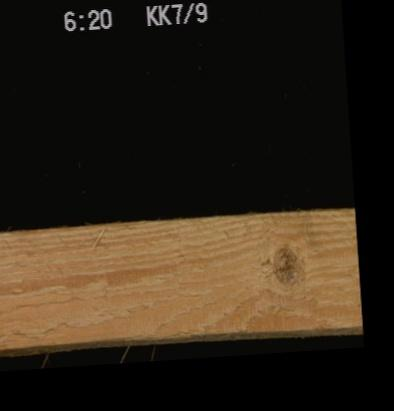sound_knot: (266, 238, 307, 291)
